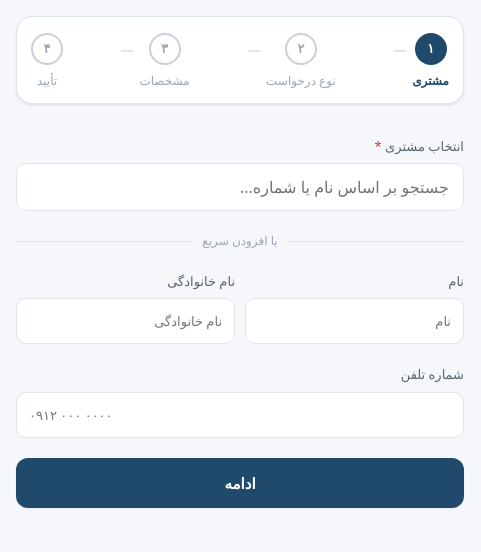
Test case: RequestWizardScreen › validates step 1 — requires customer info
Click the button "ادامه" at point(240, 483), box [16, 458, 464, 508]
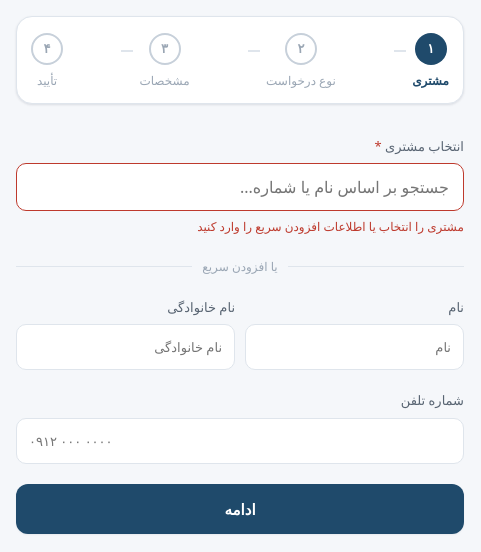
Result: the text "مشتری را انتخاب یا اطلاعات افزودن سریع را وارد کنید" is shown at [197, 218, 464, 235]
